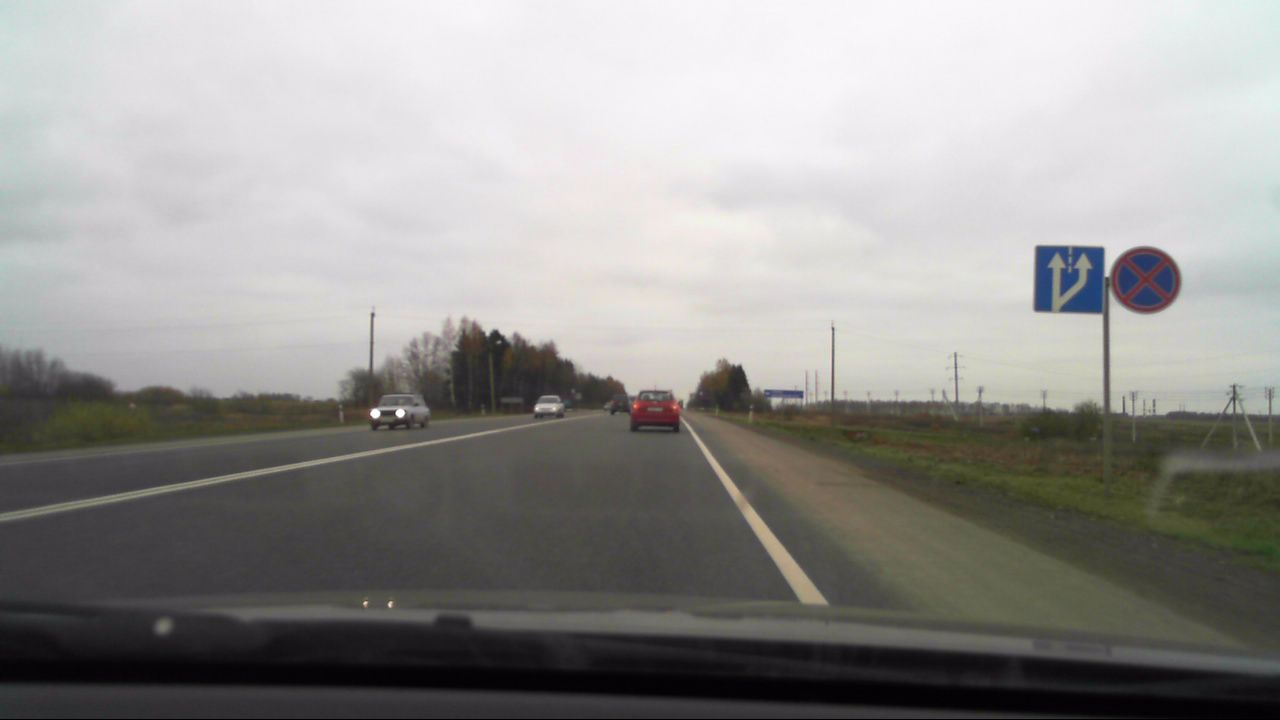No Parking: (1110, 245, 1180, 314)
